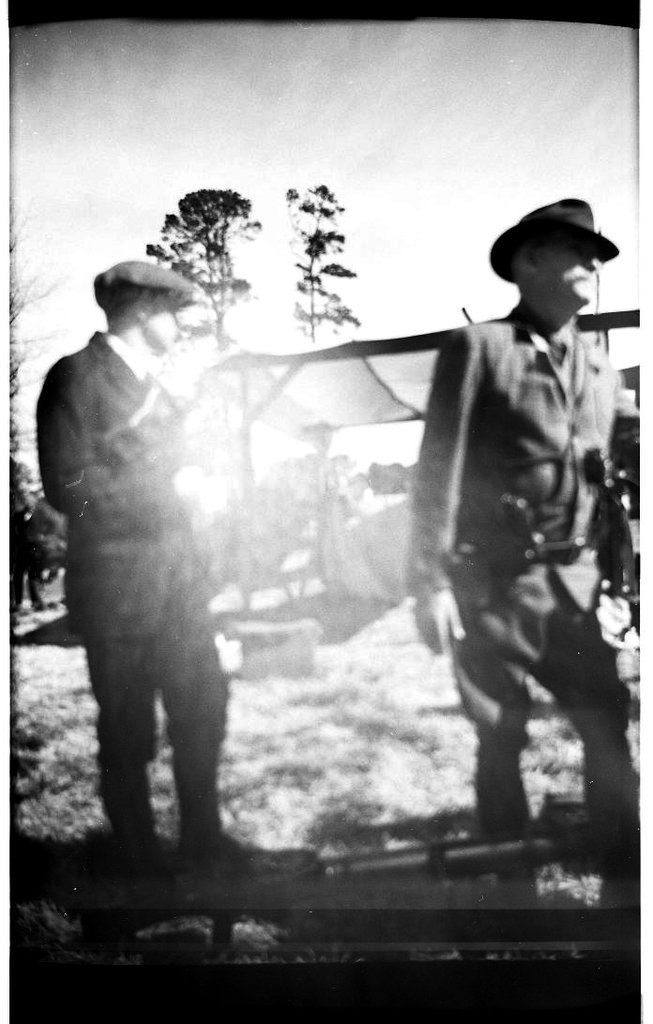Human_hand: (408, 585, 465, 654), (166, 462, 207, 506)
